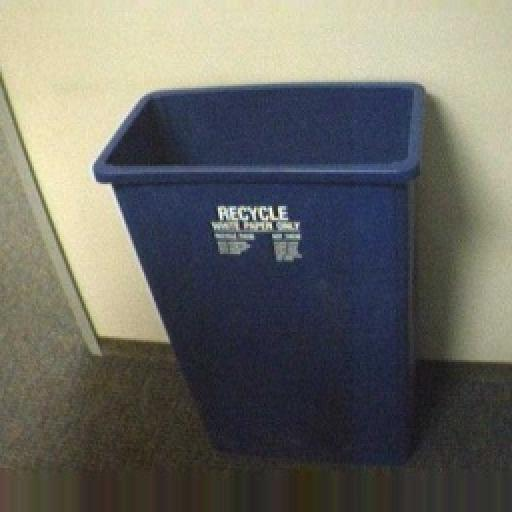trash-can: (89, 56, 450, 484)
